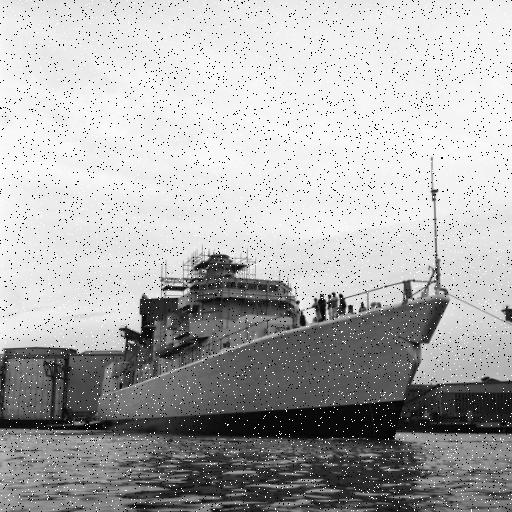Fragata: (94, 142, 453, 440)
